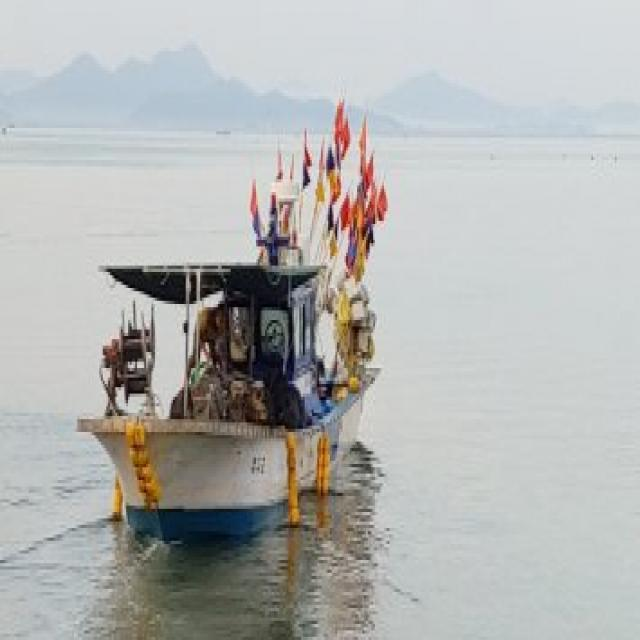Ship: (63, 91, 400, 571)
